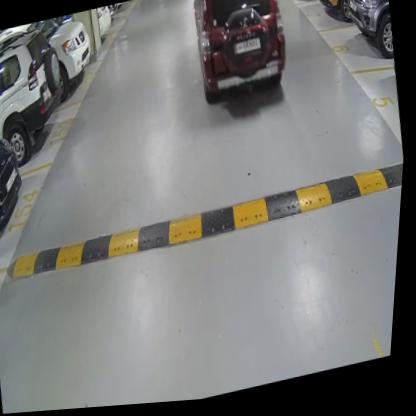np: (234, 37, 264, 56)
